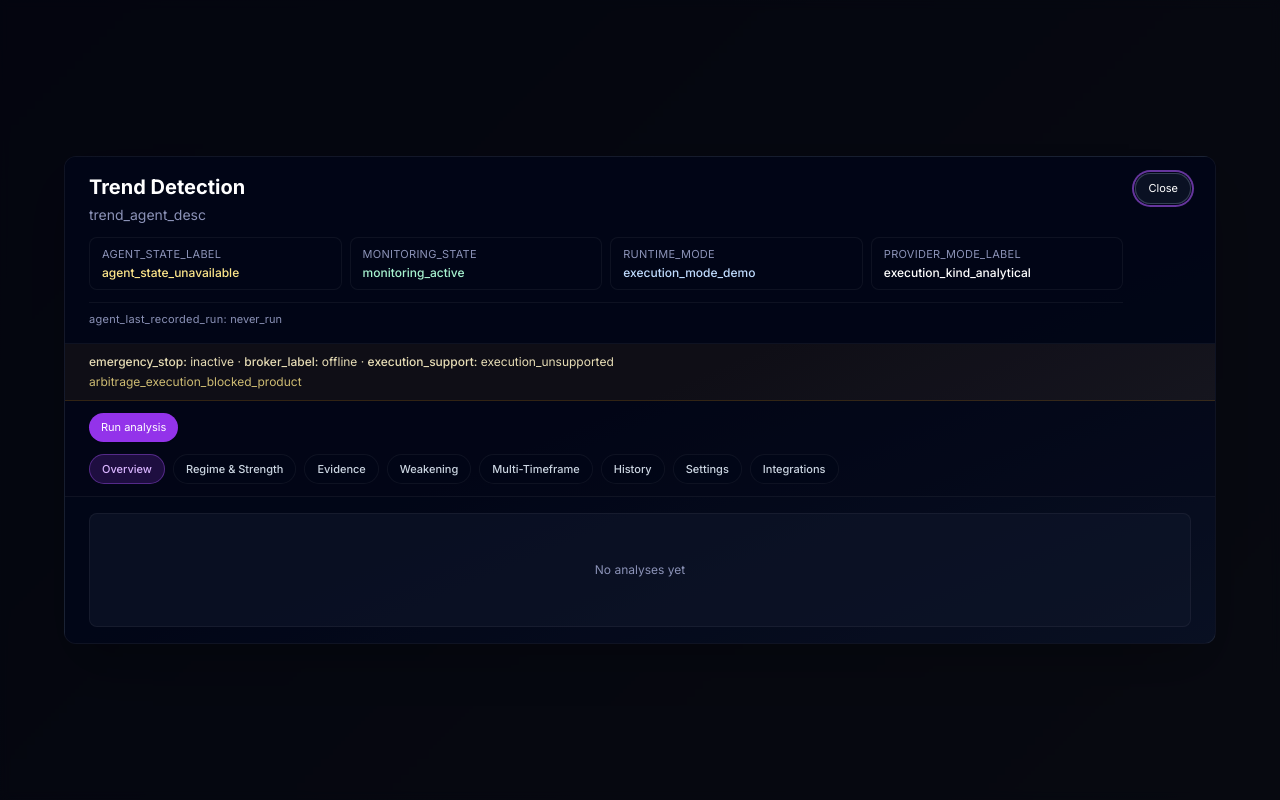
Test case: TrendWorkspace › navigates specialized trend tabs
What coordinates should you click on to do the following:
click the tab with test id "trend-tab-evidence"
I would click on:
 (342, 469)
Its box is [304,454,379,484].
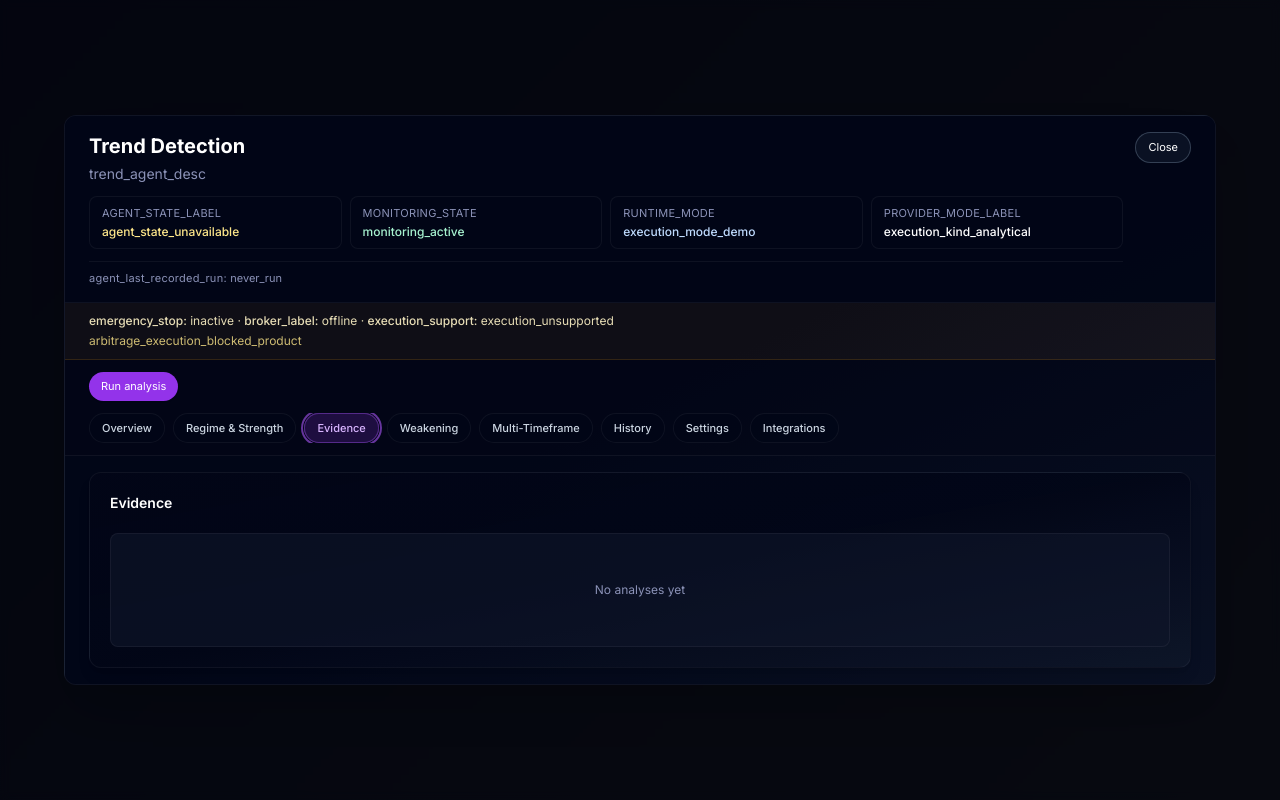
Expected: the element with test id "trend-panel-evidence" is shown, [89,472,1191,668]
